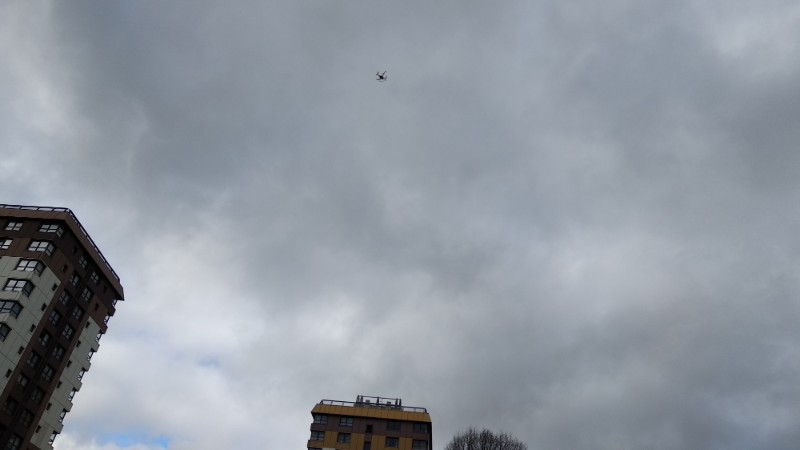drone: (375, 70, 388, 81)
